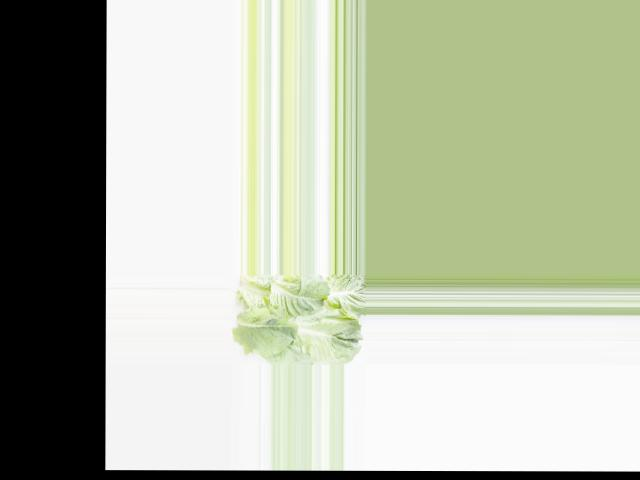lettuce: (235, 273, 362, 361)
